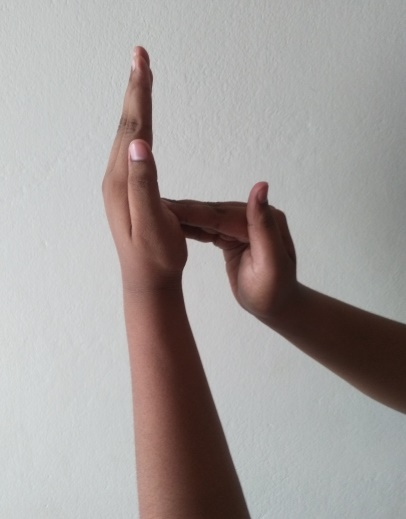ga: (103, 44, 300, 302)
